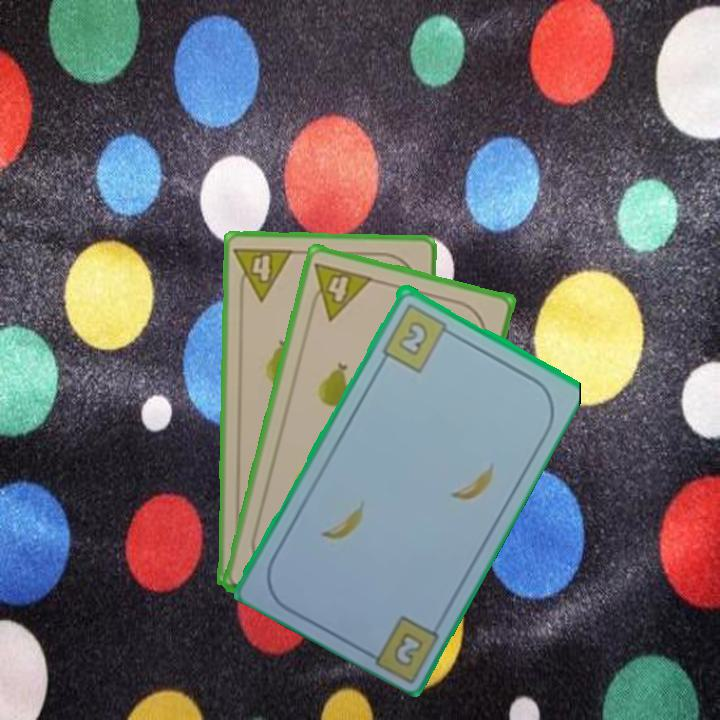2b: (378, 299, 457, 375), (389, 628, 426, 670)
4p: (304, 258, 376, 323), (231, 243, 296, 303)
